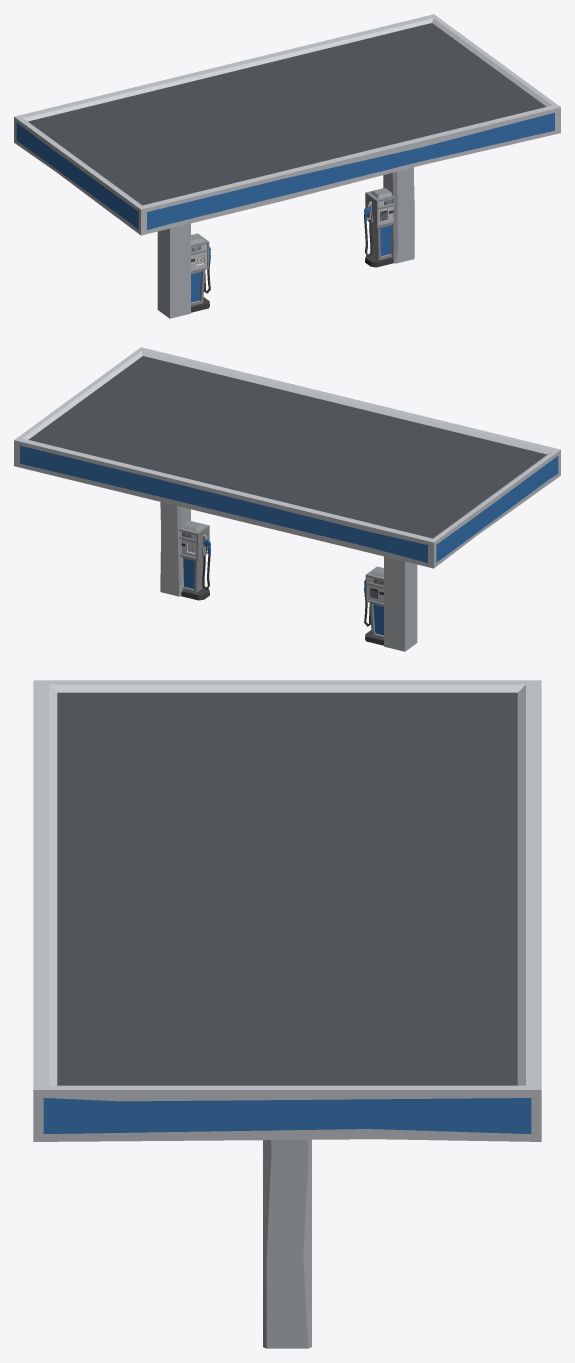
File: sc-gas-station.glb
3 renders of one model, top to bottom at view 1: azimuth 30°, elevation 25°; view 2: azimuth 150°, elevation 25°; view 3: azimuth 270°, elevation 25°, orthographic. The views are drawn at different scales.
Visible parts, largest first — view 1: SM_Prop_Gaspump_Cover_01_Mesh, SM_Prop_Gaspump_01_Mesh (×2); view 2: SM_Prop_Gaspump_Cover_01_Mesh, SM_Prop_Gaspump_01_Mesh (×2); view 3: SM_Prop_Gaspump_Cover_01_Mesh.
Part boxes in pixels (left/top/right/bottom): SM_Prop_Gaspump_Cover_01_Mesh: left=14, top=14, right=560, bottom=318; SM_Prop_Gaspump_01_Mesh (×2): left=191, top=188, right=395, bottom=312; SM_Prop_Gaspump_Cover_01_Mesh: left=14, top=347, right=560, bottom=651; SM_Prop_Gaspump_01_Mesh (×2): left=179, top=521, right=383, bottom=645; SM_Prop_Gaspump_Cover_01_Mesh: left=33, top=680, right=541, bottom=1348.
Bounding box in the file's own units: 19 × 7.45 × 9.96.
Materials: 1 (1 with a texture image).
